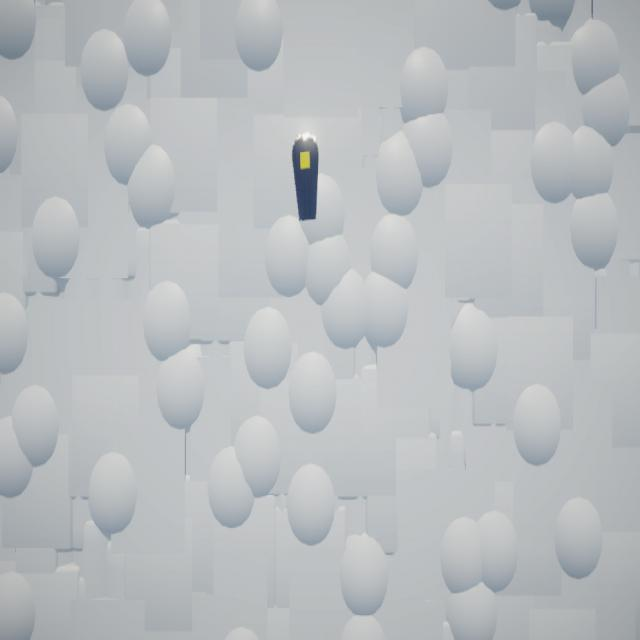handle_folk: (293, 134, 320, 223)
